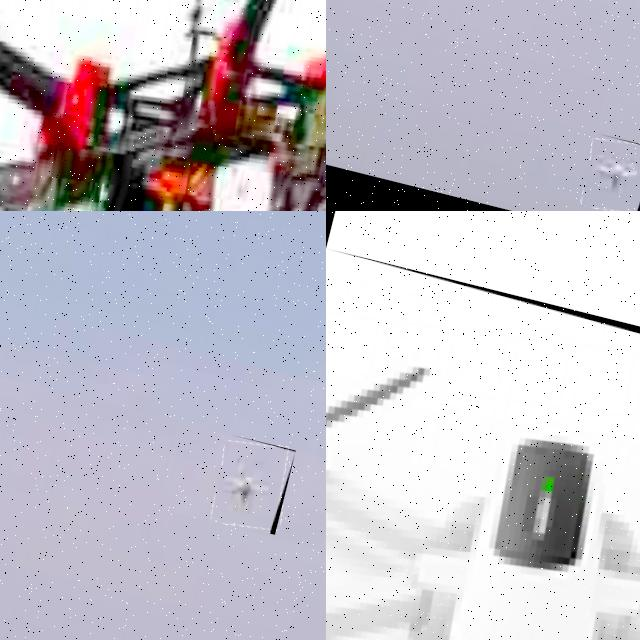0: (208, 434, 296, 534), (578, 132, 640, 211)
drone: (326, 248, 640, 640), (0, 0, 326, 211)
